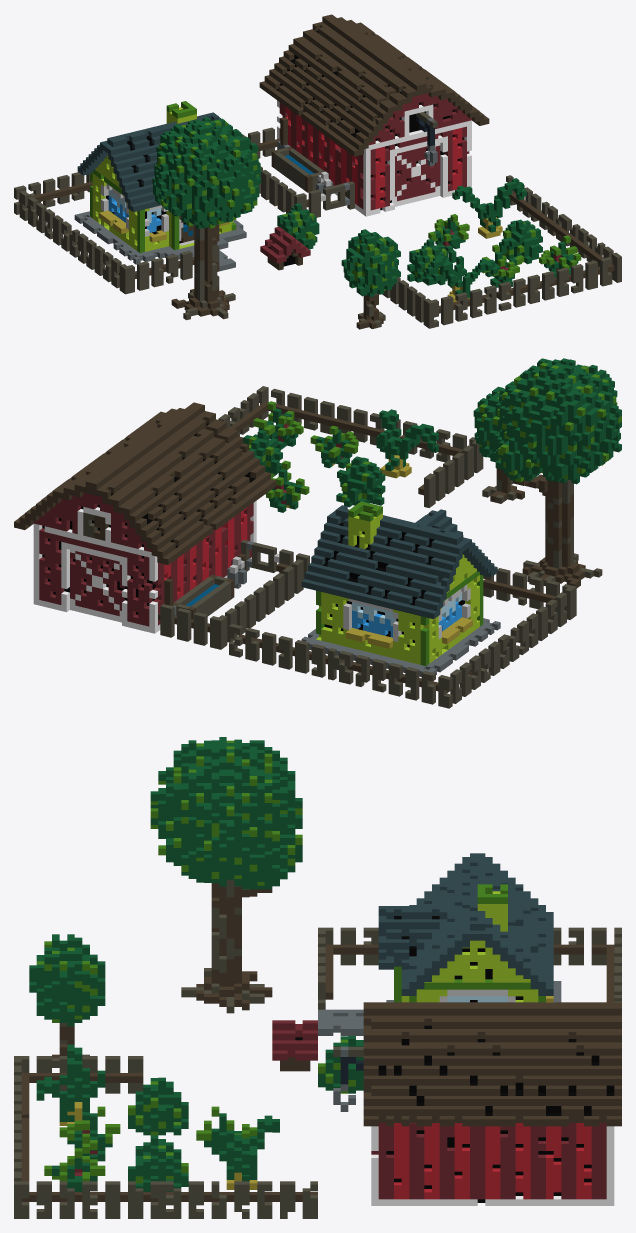
File: farm_1_damaged.obj
3 views of the same model, one above another, from view 1: azimuth 30°, elevation 25°; view 2: azimuth 150°, elevation 25°; view 3: azimuth 270°, elevation 25° (orthographic). The views are drawn at different scales.
Size of the model in its own units: 8 by 3.6 by 8.
Materials: 1 (1 with a texture image).
